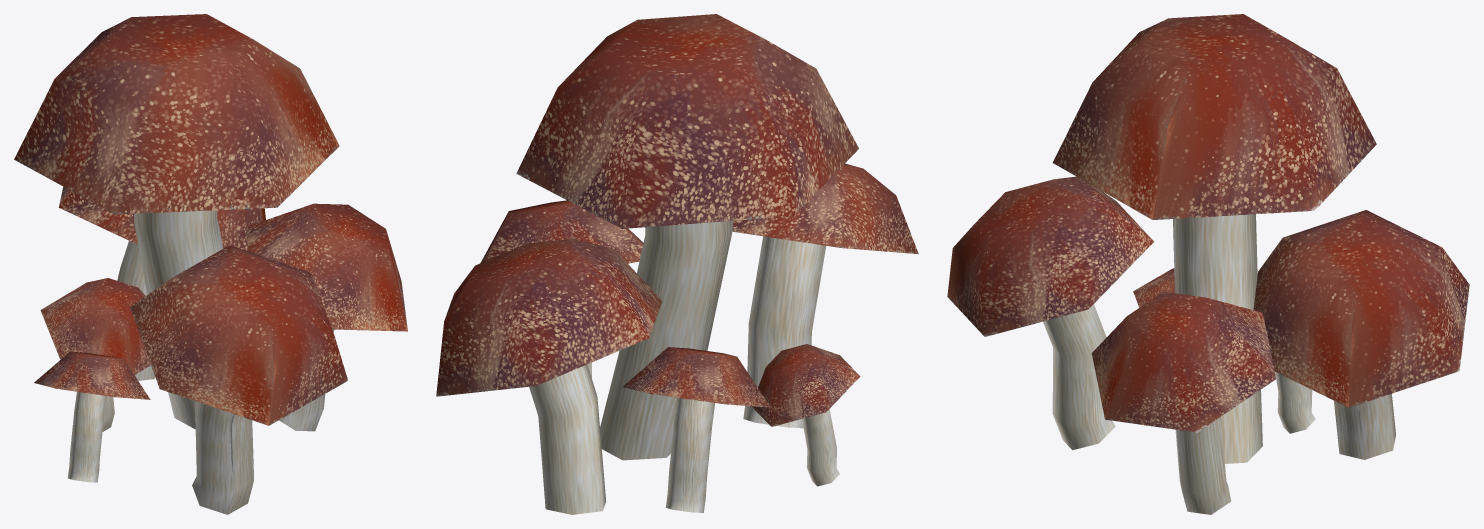
File: low_poly_mushroom.glb
The picture shows the model from 3 angles, left to right: view 1: azimuth 30°, elevation 25°; view 2: azimuth 150°, elevation 25°; view 3: azimuth 270°, elevation 25°; orthographic projection. The views are drawn at different scales.
Visible parts, largest first — view 1: Circle.002_0; view 2: Circle.002_0; view 3: Circle.002_0.
Boxes of the visible parts, x1,y1,x2,y2 form: Circle.002_0: [14, 14, 407, 514]; Circle.002_0: [436, 14, 918, 514]; Circle.002_0: [947, 14, 1469, 514].
Bounding box in the file's own units: 1.02 × 1.11 × 1.29.
Materials: 2 (2 with a texture image).
